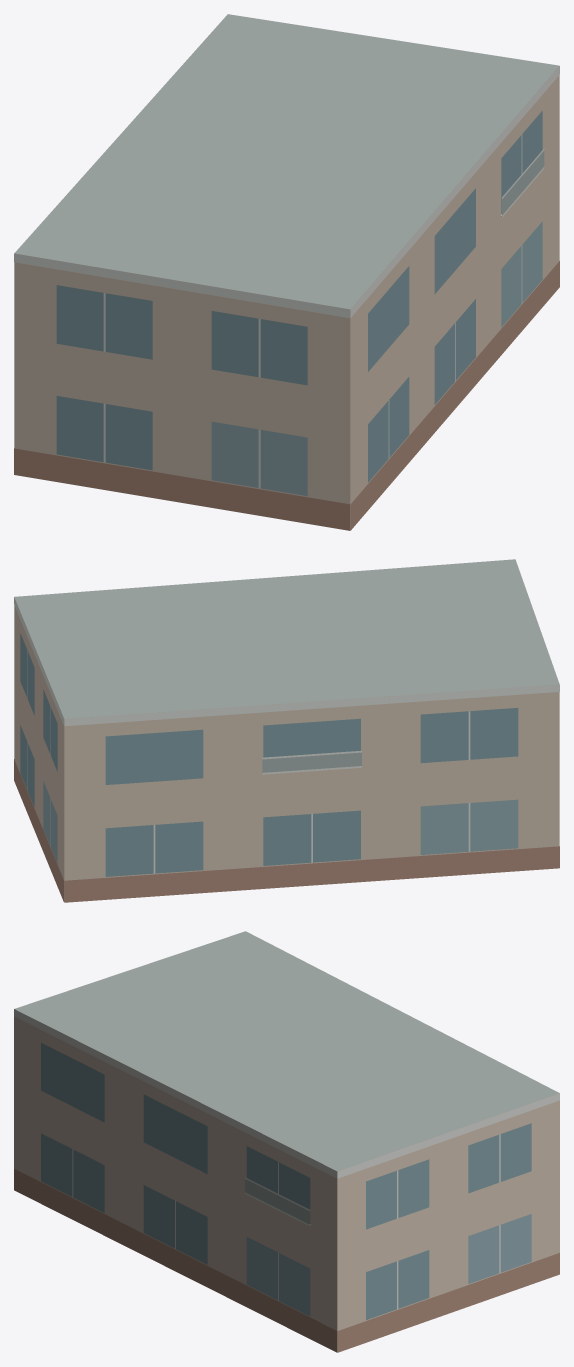
File: survey-upis-32973588.glb
3 renders of one model, top to bottom at view 1: azimuth 30°, elevation 25°; view 2: azimuth 150°, elevation 25°; view 3: azimuth 270°, elevation 25°, orthographic. The views are drawn at different scales.
Parts seen in each view (by area): view 1: survey-upis-32973588.tmp; view 2: survey-upis-32973588.tmp; view 3: survey-upis-32973588.tmp.
Boxes of the visible parts, x1,y1,x2,y2 form: survey-upis-32973588.tmp: [14, 14, 559, 530]; survey-upis-32973588.tmp: [14, 559, 559, 902]; survey-upis-32973588.tmp: [14, 931, 559, 1352].
Size of the model in its own units: 17.35 by 6.1 by 16.65.
